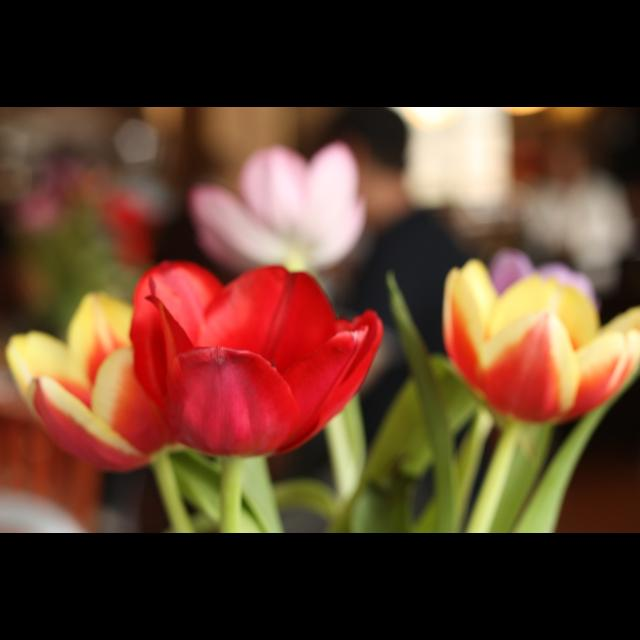Flower: (126, 262, 384, 458), (438, 246, 632, 434), (6, 292, 172, 470), (190, 143, 366, 271)
